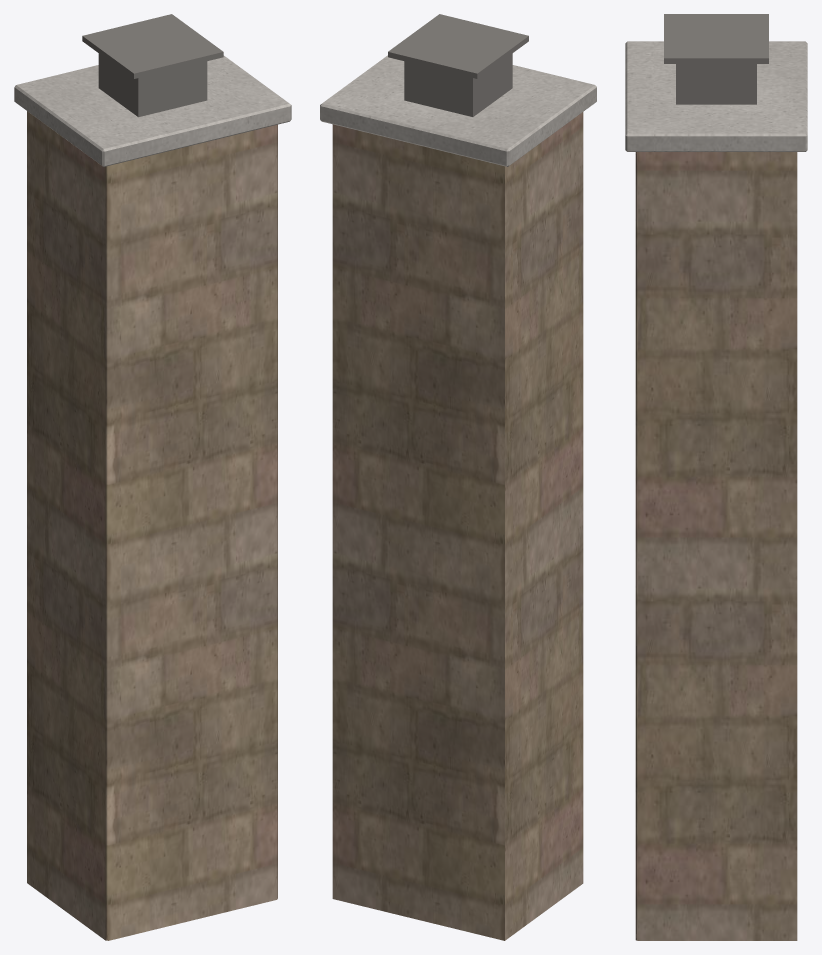
File: chimney.glb
The picture shows the model from 3 angles, left to right: view 1: azimuth 30°, elevation 25°; view 2: azimuth 150°, elevation 25°; view 3: azimuth 270°, elevation 25°; orthographic projection.
Parts seen in each view (by area): view 1: chimney_stone2, chimney_concrete, chimney_metal; view 2: chimney_stone2, chimney_concrete, chimney_metal; view 3: chimney_stone2, chimney_concrete, chimney_metal.
Part boxes in pixels (x1=…): chimney_stone2: x1=27, y1=111, x2=277, y2=940; chimney_concrete: x1=14, y1=55, x2=291, y2=166; chimney_metal: x1=82, y1=14, x2=223, y2=117; chimney_stone2: x1=332, y1=112, x2=583, y2=940; chimney_concrete: x1=320, y1=55, x2=596, y2=166; chimney_metal: x1=388, y1=14, x2=528, y2=116; chimney_stone2: x1=635, y1=152, x2=797, y2=940; chimney_concrete: x1=625, y1=41, x2=807, y2=151; chimney_metal: x1=664, y1=14, x2=768, y2=104.
Size of the model in its own units: 1.1 by 4.7 by 0.9.
Materials: 3 (2 with a texture image).
